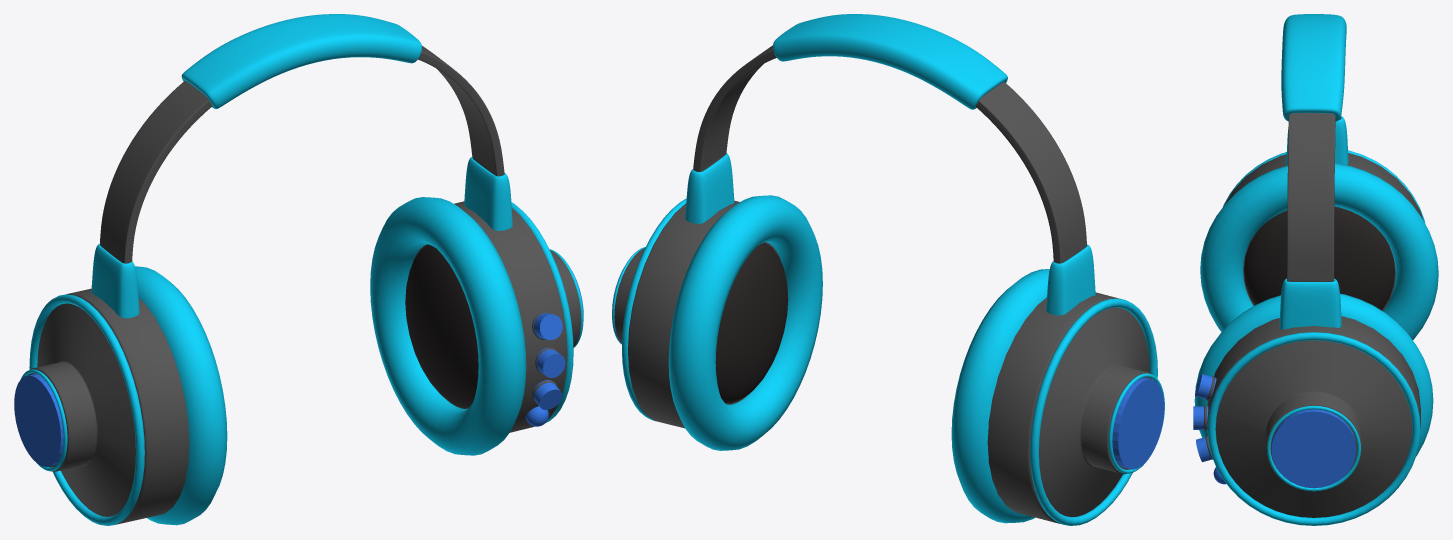
The model's file is model_edt.glb.
3 renders of one model, left to right at view 1: azimuth 30°, elevation 25°; view 2: azimuth 150°, elevation 25°; view 3: azimuth 270°, elevation 25°, orthographic. The views are drawn at different scales.
Visible parts, largest first — view 1: HEADSET, BezierCircle, Circle.002, Sphere, BezierCircle.001, Circle.001, pt_sensor_l, BezierCircle.002, pt_2, pt_1; view 2: HEADSET, BezierCircle, Circle.002, Sphere, BezierCircle.001, Circle.001, pt_sensor_l, BezierCircle.002; view 3: HEADSET, BezierCircle, Sphere, Circle.002, BezierCircle.001, pt_sensor_R, Circle.001, BezierCircle.002, pt_1, pt_2.
Part boxes in pixels (x1,y1,x2,y2): HEADSET: (28, 46, 581, 524); BezierCircle: (135, 197, 526, 525); Circle.002: (181, 14, 421, 108); Sphere: (405, 245, 478, 407); BezierCircle.001: (29, 202, 573, 525); Circle.001: (91, 157, 512, 318); pt_sensor_l: (14, 374, 63, 466); BezierCircle.002: (20, 249, 583, 471); pt_2: (535, 347, 565, 377); pt_1: (532, 313, 562, 339); HEADSET: (614, 45, 1151, 523); BezierCircle: (668, 195, 1049, 523); Circle.002: (773, 14, 1007, 109); Sphere: (715, 242, 788, 403); BezierCircle.001: (622, 198, 1157, 525); Circle.001: (685, 153, 1095, 315); pt_sensor_l: (1112, 378, 1164, 469); BezierCircle.002: (612, 247, 1164, 473); HEADSET: (1204, 113, 1423, 517); BezierCircle: (1194, 163, 1438, 456); Sphere: (1244, 206, 1394, 310); Circle.002: (1281, 14, 1346, 121); BezierCircle.001: (1207, 150, 1425, 525); pt_sensor_R: (1271, 409, 1356, 488); Circle.001: (1279, 116, 1348, 329); BezierCircle.002: (1267, 405, 1360, 491); pt_1: (1195, 374, 1216, 400); pt_2: (1193, 406, 1208, 429).
Size of the model in its own units: 5.05 by 4.22 by 2.3.
Materials: 13 (6 with a texture image).
